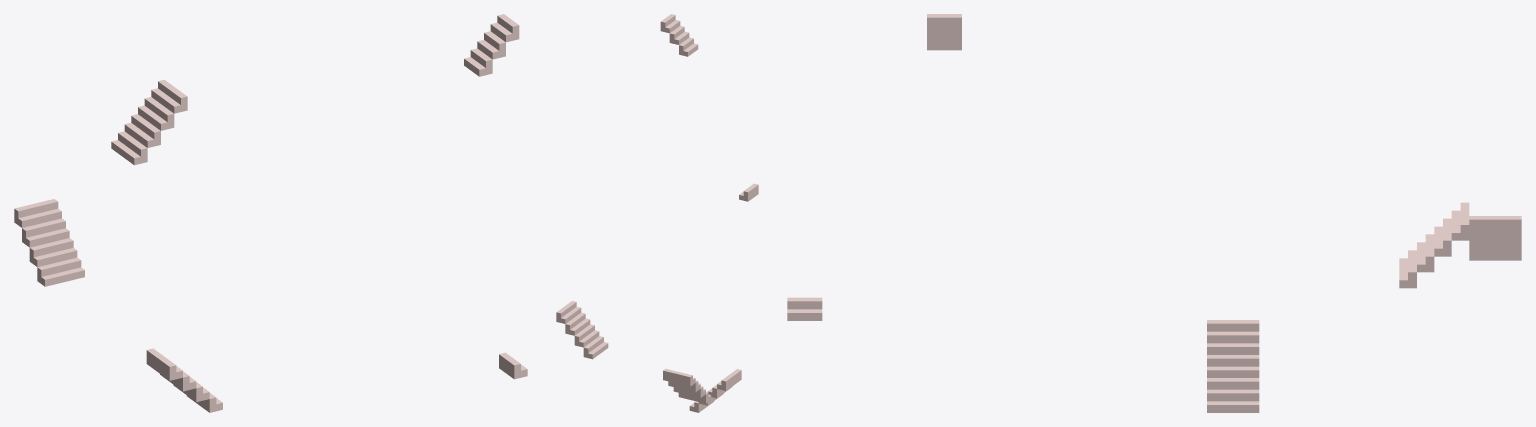
Rendered from Sphere_Stairs.fbx.
The picture shows the model from 3 angles, left to right: view 1: azimuth 30°, elevation 25°; view 2: azimuth 150°, elevation 25°; view 3: azimuth 270°, elevation 25°; orthographic projection. The views are drawn at different scales.
Parts seen in each view (by area): view 1: Sphere_Stairs; view 2: Sphere_Stairs; view 3: Sphere_Stairs.
Part boxes in pixels (bbox=[...]): Sphere_Stairs: bbox=[14, 14, 527, 412]; Sphere_Stairs: bbox=[556, 14, 758, 412]; Sphere_Stairs: bbox=[787, 14, 1521, 412].
Bounding box in the file's own units: 2020 × 3131 × 4242.
